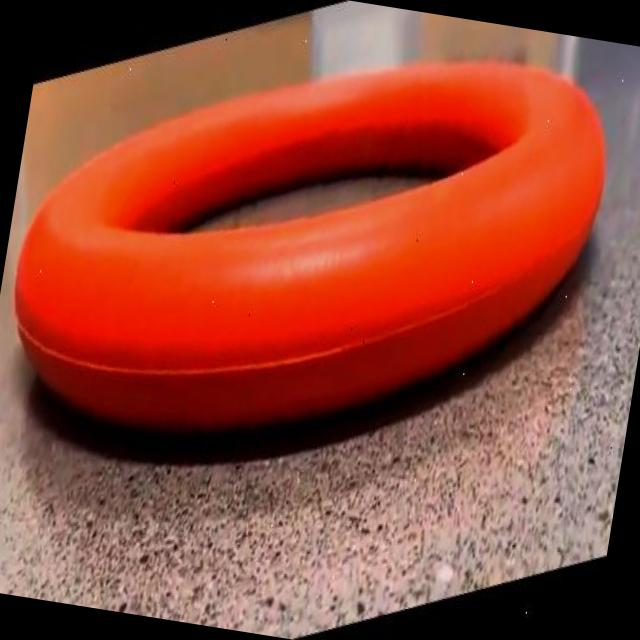note: (15, 62, 604, 430)
